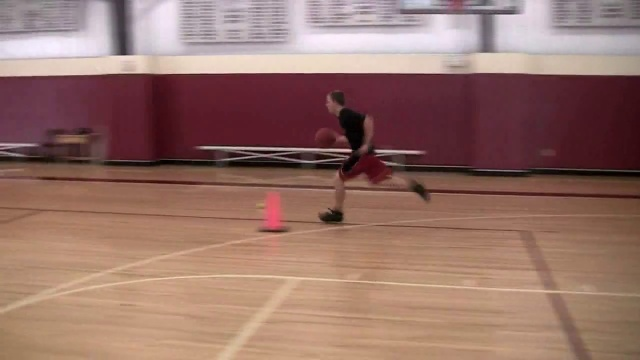person: (312, 92, 430, 218)
